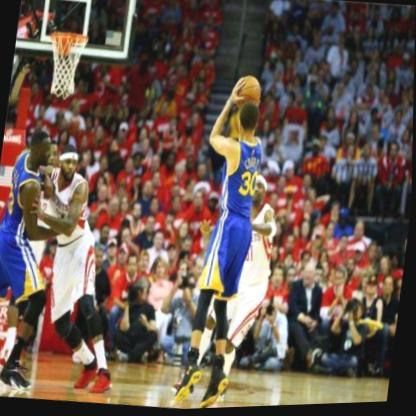basketball: (232, 71, 265, 110)
rim: (45, 30, 90, 100)
